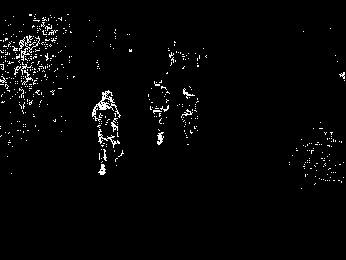person: (93, 89, 124, 177), (147, 76, 171, 148), (179, 84, 200, 145)
